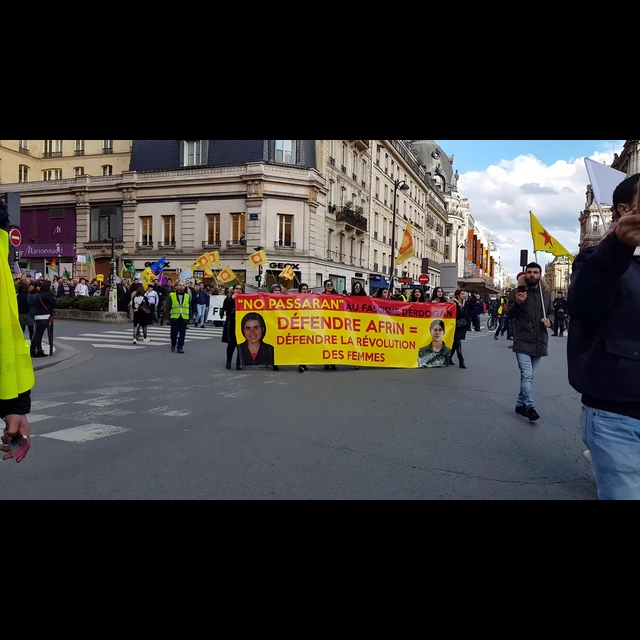YPG: (525, 208, 575, 257)
